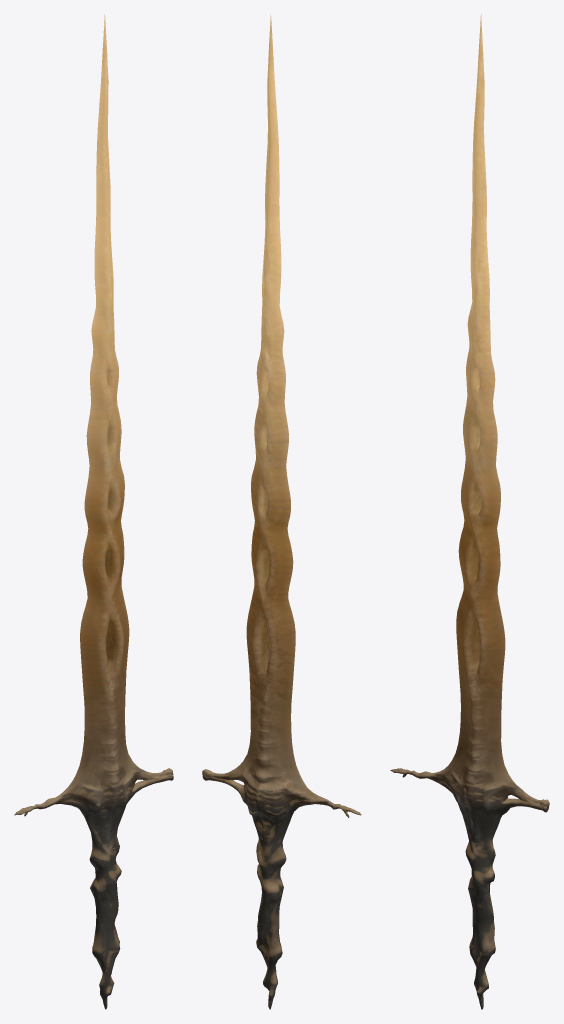
The model's file is wa_pd_sacredrelicsword.glb.
3 views of the same model, side by side, from view 1: azimuth 30°, elevation 25°; view 2: azimuth 150°, elevation 25°; view 3: azimuth 330°, elevation 25° (orthographic).
Visible parts, largest first — view 1: SacredSword; view 2: SacredSword; view 3: SacredSword.
Boxes of the visible parts, x1,y1,x2,y2 form: SacredSword: (14,14,173,1009); SacredSword: (202,14,361,1009); SacredSword: (390,14,549,1009).
Size of the model in its own units: 21.33 by 128 by 5.75.
Materials: 1 (1 with a texture image).
